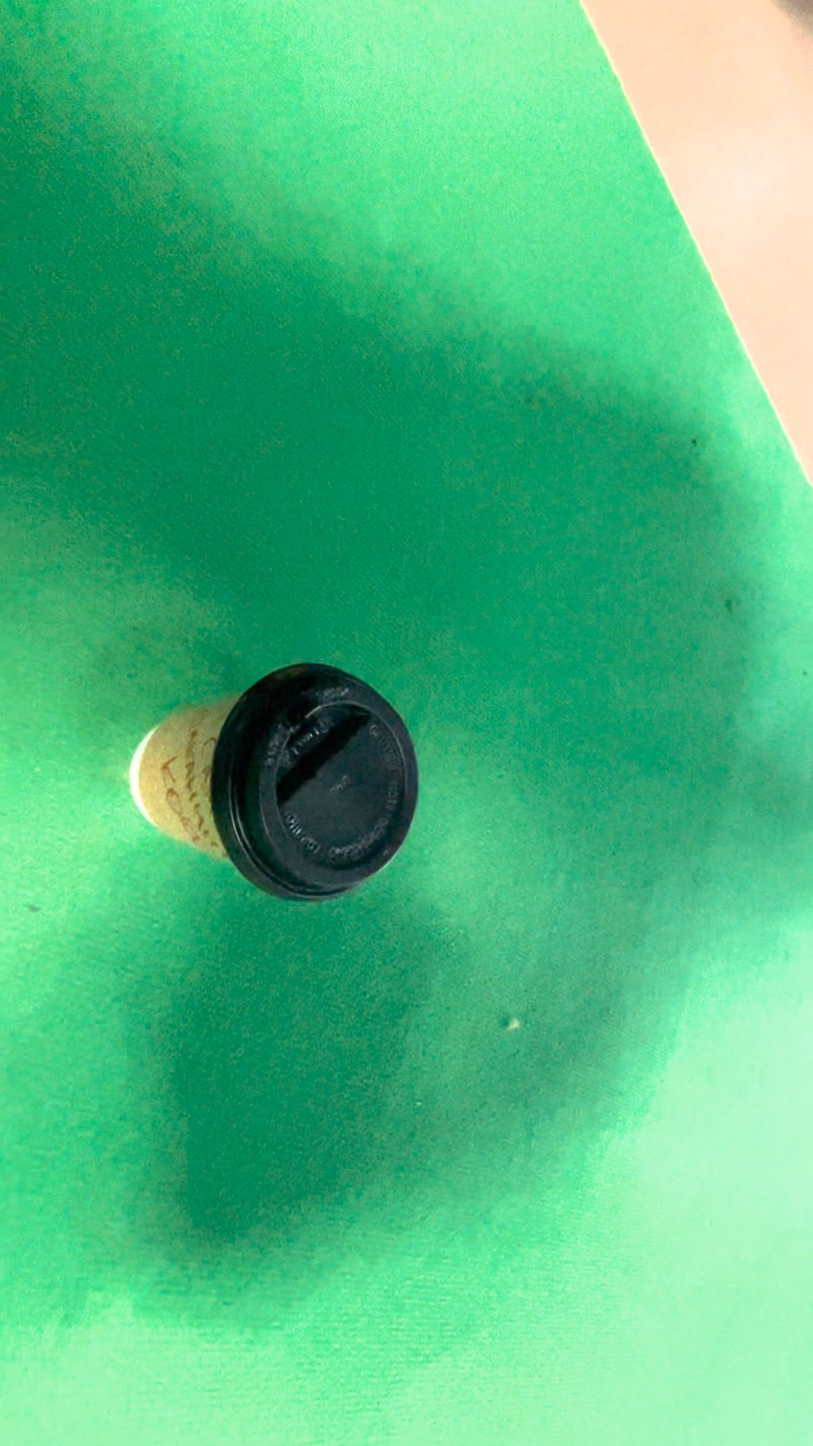cup: (445, 644, 528, 1047)
